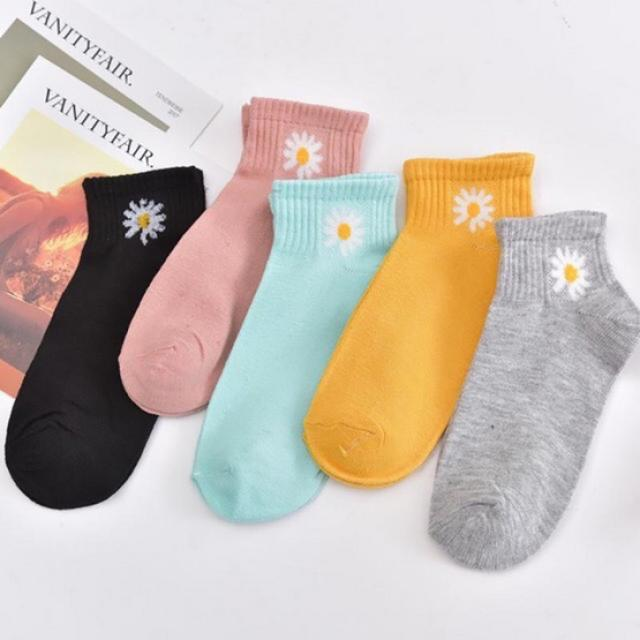sock: (118, 95, 370, 418), (302, 150, 535, 489), (427, 208, 639, 572), (190, 171, 399, 524), (3, 164, 206, 508)
